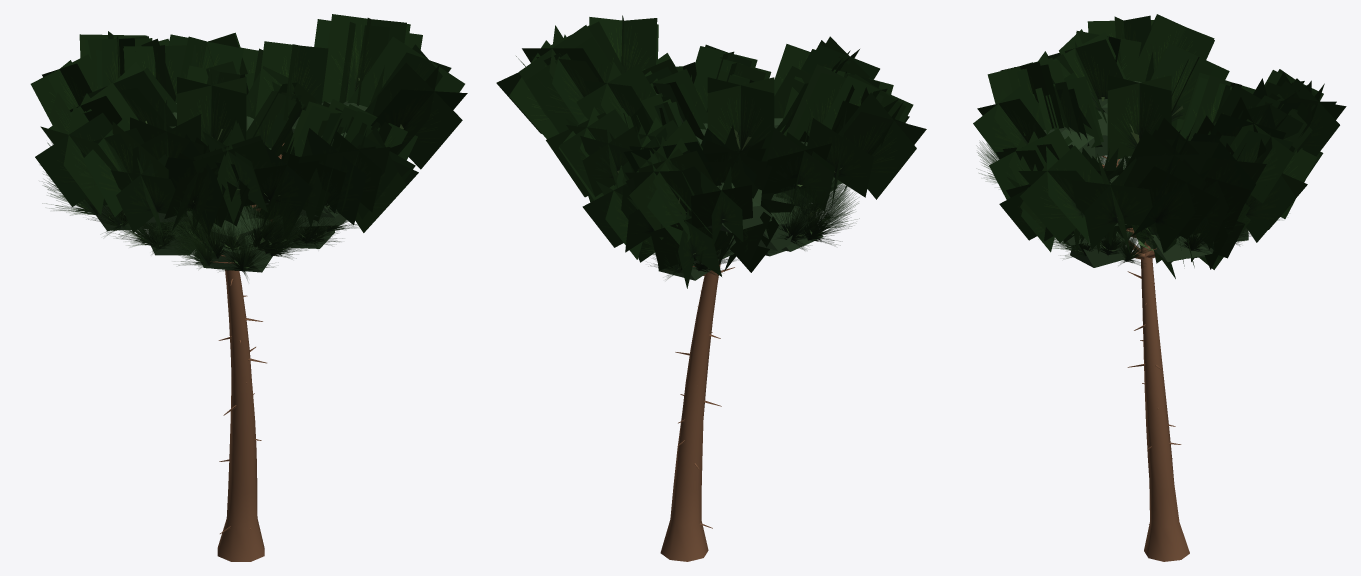
Rendered from Pino_Pinonero.glb.
3 renders of one model, left to right at view 1: azimuth 30°, elevation 25°; view 2: azimuth 150°, elevation 25°; view 3: azimuth 270°, elevation 25°, orthographic. The views are drawn at different scales.
Parts seen in each view (by area): view 1: Pino_Pinonero; view 2: Pino_Pinonero; view 3: Pino_Pinonero.
Boxes of the visible parts, x1,y1,x2,y2 form: Pino_Pinonero: [30, 14, 467, 561]; Pino_Pinonero: [496, 15, 926, 561]; Pino_Pinonero: [973, 14, 1346, 561].
Bounding box in the file's own units: 12.05 × 14.41 × 10.78.
7 materials, 3 textured.
